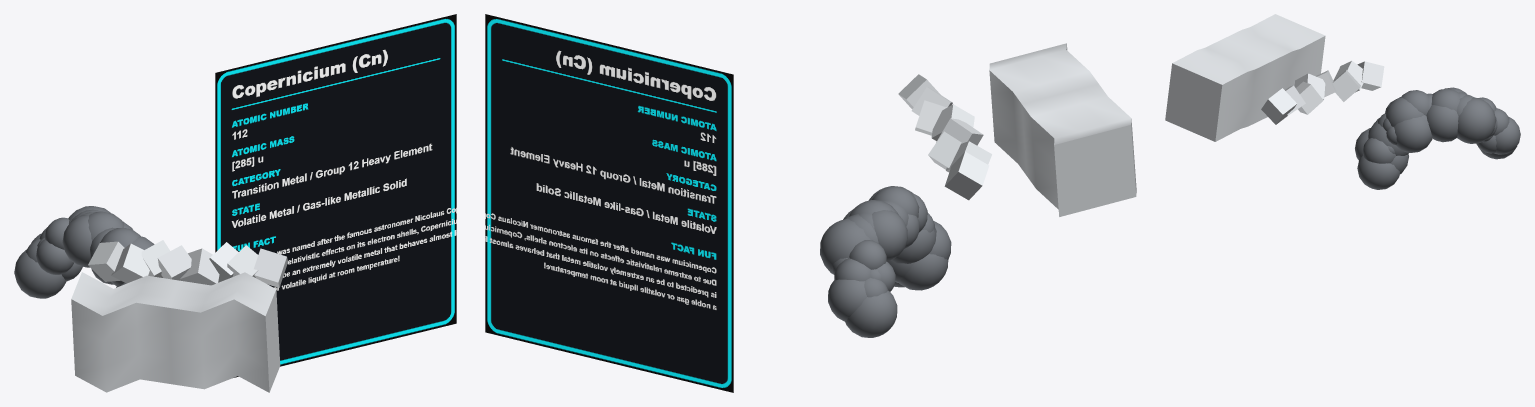
Rendered from copernicium.glb.
3 renders of one model, left to right at view 1: azimuth 30°, elevation 25°; view 2: azimuth 150°, elevation 25°; view 3: azimuth 270°, elevation 25°, orthographic. The views are drawn at different scales.
Visible parts, largest first — view 1: Mesh_75, Mesh_0, Mesh_9, Mesh_32, Mesh_7, Mesh_8, Mesh_1, Mesh_4, Mesh_19, Mesh_5, Mesh_2, Mesh_3 (+4 smaller); view 2: Mesh_75, Mesh_0, Mesh_9, Mesh_26, Mesh_8, Mesh_32, Mesh_12, Mesh_72, Mesh_60, Mesh_21, Mesh_6, Mesh_45 (+5 smaller); view 3: Mesh_0, Mesh_26, Mesh_49, Mesh_73, Mesh_39, Mesh_1, Mesh_48, Mesh_12, Mesh_65, Mesh_8, Mesh_6, Mesh_3 (+5 smaller).
Part boxes in pixels (x1,y1,x2,y2): Mesh_75: (215, 14, 456, 377); Mesh_0: (71, 272, 280, 392); Mesh_9: (14, 249, 66, 298); Mesh_32: (62, 215, 91, 267); Mesh_7: (111, 243, 149, 283); Mesh_8: (88, 241, 124, 281); Mesh_1: (254, 248, 287, 287); Mesh_4: (180, 248, 219, 285); Mesh_19: (36, 239, 73, 274); Mesh_5: (157, 245, 191, 280); Mesh_2: (227, 245, 258, 277); Mesh_3: (209, 242, 238, 282); Mesh_75: (485, 14, 733, 392); Mesh_0: (989, 43, 1136, 216); Mesh_9: (845, 291, 897, 337); Mesh_26: (820, 218, 870, 274); Mesh_8: (944, 151, 989, 200); Mesh_32: (872, 210, 907, 261); Mesh_12: (828, 279, 866, 321); Mesh_72: (899, 253, 948, 290); Mesh_60: (891, 227, 936, 263); Mesh_21: (849, 240, 886, 269); Mesh_6: (928, 131, 962, 169); Mesh_45: (872, 186, 919, 217); Mesh_0: (1165, 14, 1325, 141); Mesh_26: (1457, 97, 1496, 143); Mesh_49: (1394, 117, 1432, 152); Mesh_73: (1357, 155, 1399, 189); Mesh_39: (1426, 105, 1458, 142); Mesh_1: (1261, 88, 1296, 124); Mesh_48: (1386, 97, 1423, 126); Mesh_12: (1494, 117, 1520, 154); Mesh_65: (1362, 138, 1395, 163); Mesh_8: (1357, 61, 1384, 90); Mesh_6: (1332, 69, 1360, 101); Mesh_3: (1296, 81, 1323, 114).
Size of the model in its own units: 2.39 by 1.4 by 1.86.
Materials: 3 (1 with a texture image).
